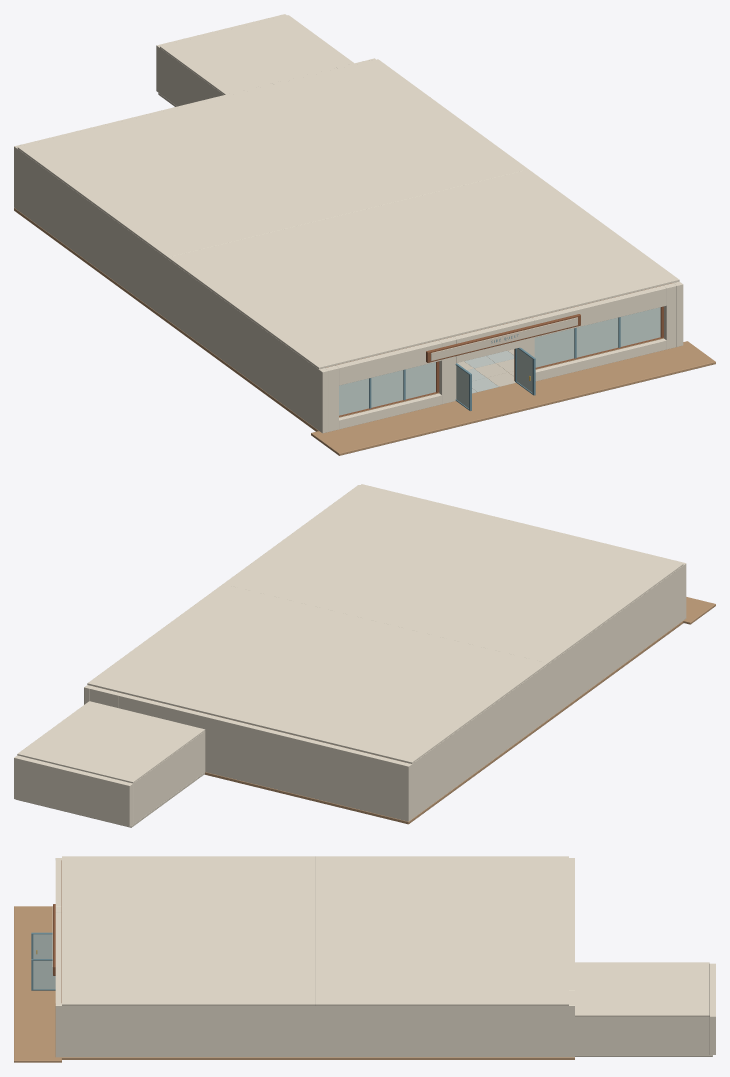
Rendered from CozyGamingStore_v03.fbx.
The picture shows the model from 3 angles, top to bottom: view 1: azimuth 30°, elevation 25°; view 2: azimuth 150°, elevation 25°; view 3: azimuth 270°, elevation 25°; orthographic projection. The views are drawn at different scales.
Visible parts, largest first — view 1: CST01_FBX_CST01_Ceiling_Main_Front, CST01_FBX_CST01_Ceiling_Main_Rear, CST01_FBX_CST01_SideWall_-6.0, CST01_FBX_CST01_Front_Stoop, CST01_FBX_CST01_Ceiling_Stockroom, CST01_FBX_CST01_Window_Right_Glass, CST01_FBX_CST01_Window_Left_Glass, CST01_FBX_CST01_Window_Right_HeaderWall, CST01_FBX_CST01_Window_Left_HeaderWall, CST01_FBX_CST01_Stock_SideWall_1.7999999999999998, CST01_FBX_CST01_Window_Right_SillWall, CST01_FBX_CST01_Floor_Tiles_Combined_075m (+7 smaller); view 2: CST01_FBX_CST01_Ceiling_Main_Rear, CST01_FBX_CST01_Ceiling_Main_Front, CST01_FBX_CST01_SideWall_-6.0, CST01_FBX_CST01_BackWall_Left, CST01_FBX_CST01_Ceiling_Stockroom, CST01_FBX_CST01_Stock_BackWall, CST01_FBX_CST01_Stock_SideWall_1.7999999999999998, CST01_FBX_CST01_Main_Floor_Slab, CST01_FBX_CST01_BackWall_Over_Door; view 3: CST01_FBX_CST01_Ceiling_Main_Front, CST01_FBX_CST01_Ceiling_Main_Rear, CST01_FBX_CST01_SideWall_6.0, CST01_FBX_CST01_Ceiling_Stockroom, CST01_FBX_CST01_Stock_SideWall_5.8, CST01_FBX_CST01_Front_Stoop, CST01_FBX_CST01_Main_Floor_Slab, CST01_FBX_CST01_Stock_BackWall, CST01_FBX_CST01_Entrance_R_Glass, CST01_FBX_CST01_BackWall_Left, CST01_FBX_CST01_Entrance_L_Glass, CST01_FBX_CST01_Window_Right_HeaderWall.
Boxes of the visible parts, x1,y1,x2,y2 form: CST01_FBX_CST01_Ceiling_Main_Front: (168, 169, 679, 369); CST01_FBX_CST01_Ceiling_Main_Rear: (17, 59, 528, 258); CST01_FBX_CST01_SideWall_-6.0: (14, 145, 328, 433); CST01_FBX_CST01_Front_Stoop: (311, 341, 715, 455); CST01_FBX_CST01_Ceiling_Stockroom: (160, 15, 353, 94); CST01_FBX_CST01_Window_Right_Glass: (534, 307, 660, 367); CST01_FBX_CST01_Window_Left_Glass: (339, 362, 435, 415); CST01_FBX_CST01_Window_Right_HeaderWall: (531, 285, 666, 337); CST01_FBX_CST01_Window_Left_HeaderWall: (335, 340, 441, 385); CST01_FBX_CST01_Stock_SideWall_1.7999999999999998: (160, 48, 223, 106); CST01_FBX_CST01_Window_Right_SillWall: (535, 338, 666, 381); CST01_FBX_CST01_Floor_Tiles_Combined_075m: (457, 349, 515, 393); CST01_FBX_CST01_Ceiling_Main_Rear: (87, 584, 547, 763); CST01_FBX_CST01_Ceiling_Main_Front: (223, 485, 683, 664); CST01_FBX_CST01_SideWall_-6.0: (403, 562, 686, 821); CST01_FBX_CST01_BackWall_Left: (176, 707, 405, 820); CST01_FBX_CST01_Ceiling_Stockroom: (17, 701, 205, 783); CST01_FBX_CST01_Stock_BackWall: (14, 755, 132, 826); CST01_FBX_CST01_Stock_SideWall_1.7999999999999998: (131, 731, 205, 824); CST01_FBX_CST01_Main_Floor_Slab: (204, 621, 683, 824); CST01_FBX_CST01_BackWall_Over_Door: (118, 693, 178, 721); CST01_FBX_CST01_Ceiling_Main_Front: (62, 856, 315, 1005); CST01_FBX_CST01_Ceiling_Main_Rear: (315, 856, 568, 1005); CST01_FBX_CST01_SideWall_6.0: (55, 1003, 574, 1057); CST01_FBX_CST01_Ceiling_Stockroom: (575, 962, 709, 1016); CST01_FBX_CST01_Stock_SideWall_5.8: (575, 1016, 709, 1054); CST01_FBX_CST01_Front_Stoop: (14, 906, 61, 1062); CST01_FBX_CST01_Main_Floor_Slab: (62, 1057, 574, 1059); CST01_FBX_CST01_Stock_BackWall: (709, 963, 715, 1054); CST01_FBX_CST01_Entrance_R_Glass: (33, 960, 55, 989); CST01_FBX_CST01_BackWall_Left: (569, 860, 574, 963); CST01_FBX_CST01_Entrance_L_Glass: (33, 934, 52, 958); CST01_FBX_CST01_Window_Right_HeaderWall: (55, 945, 61, 998).
Size of the model in its own units: 2925 by 492 by 5607.
